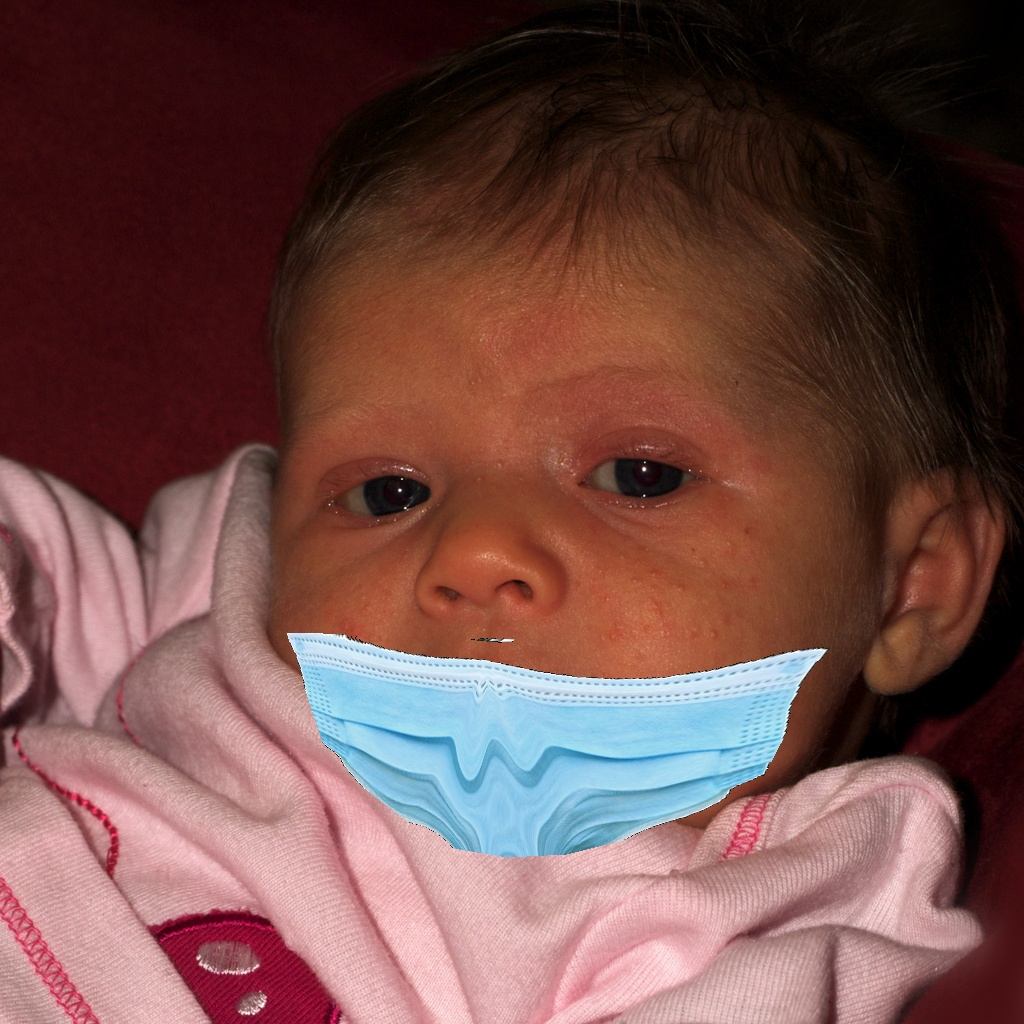mask_weared_incorrect: (265, 364, 871, 874)
